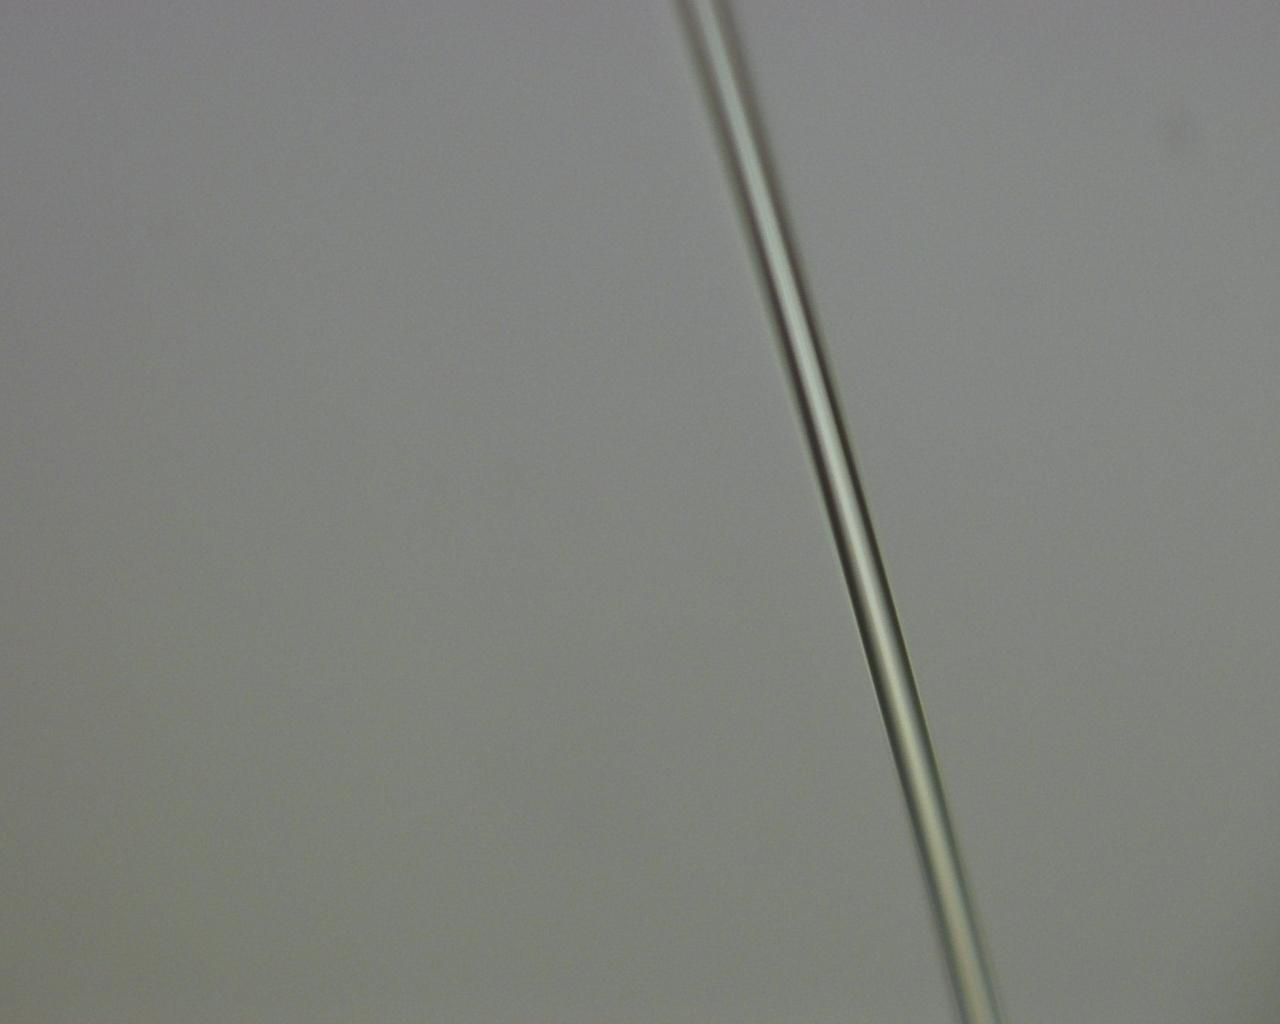fiber: (555, 166, 1280, 386), (0, 533, 435, 635)
